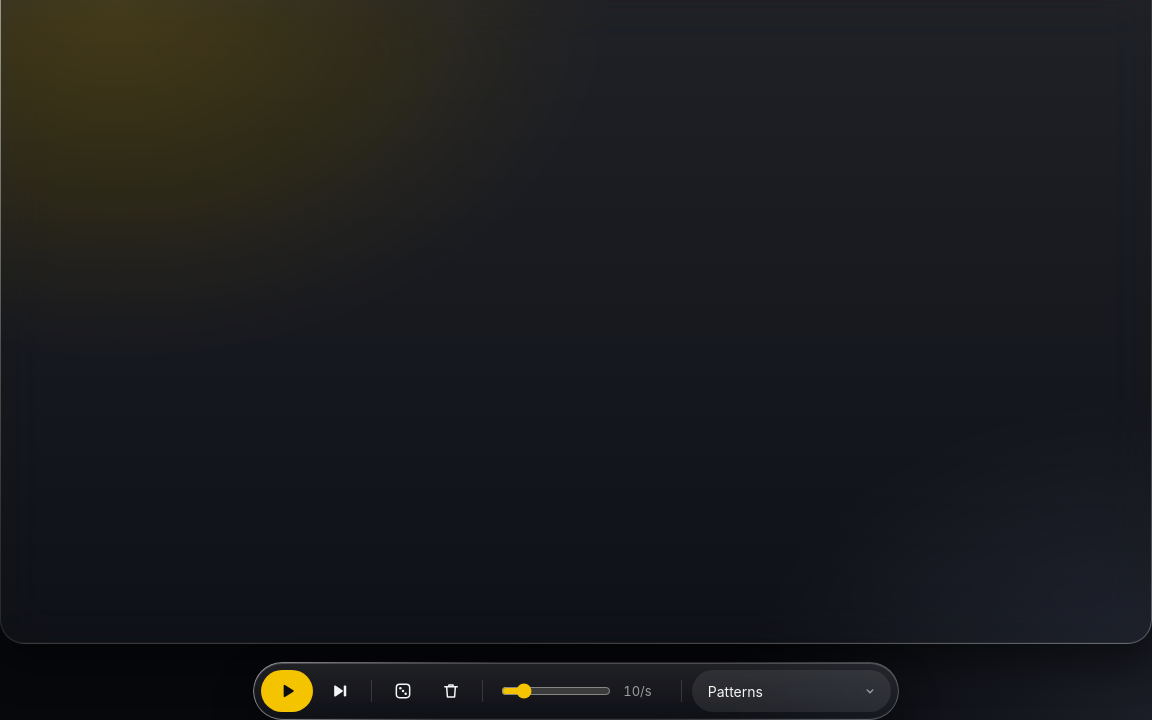
it: <GameOfLife /> › switches between play and pause
(page scrolled)
Click the button named "Play".
click(287, 691)  # box x1=261 y1=670 x2=313 y2=712
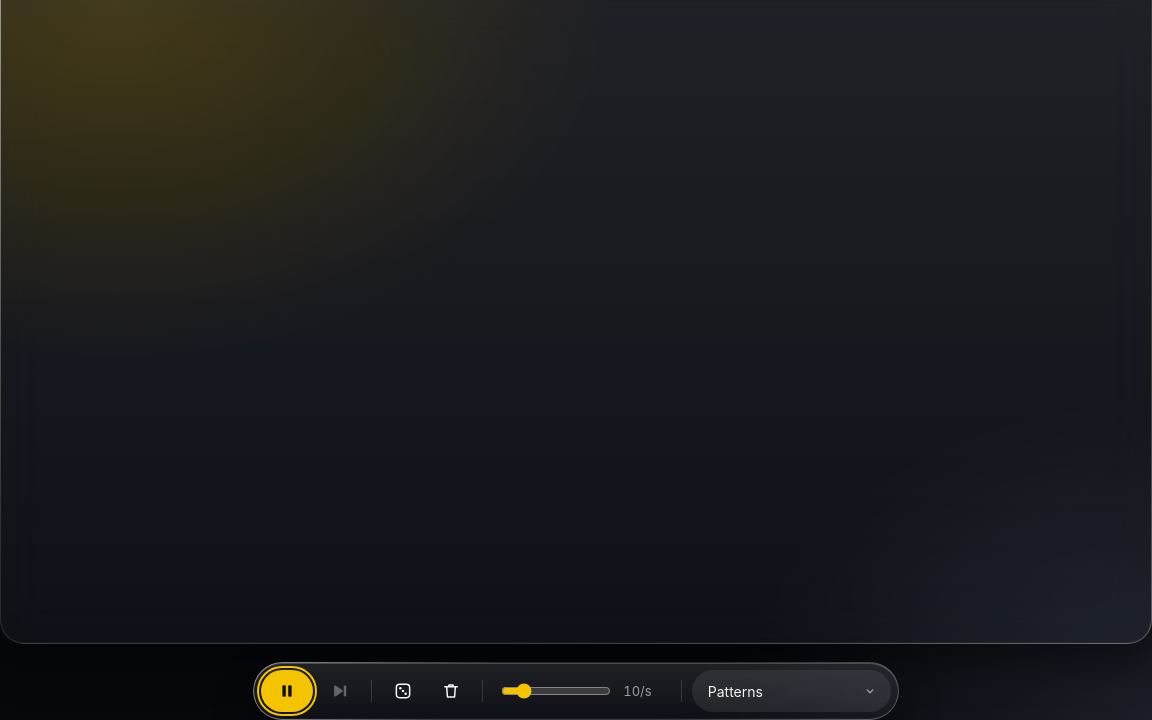
Check: the button named "Step" is disabled, box x1=319 y1=670 x2=361 y2=712
Click the button named "Pause".
click(287, 691)  # box x1=261 y1=670 x2=313 y2=712
(page scrolled)
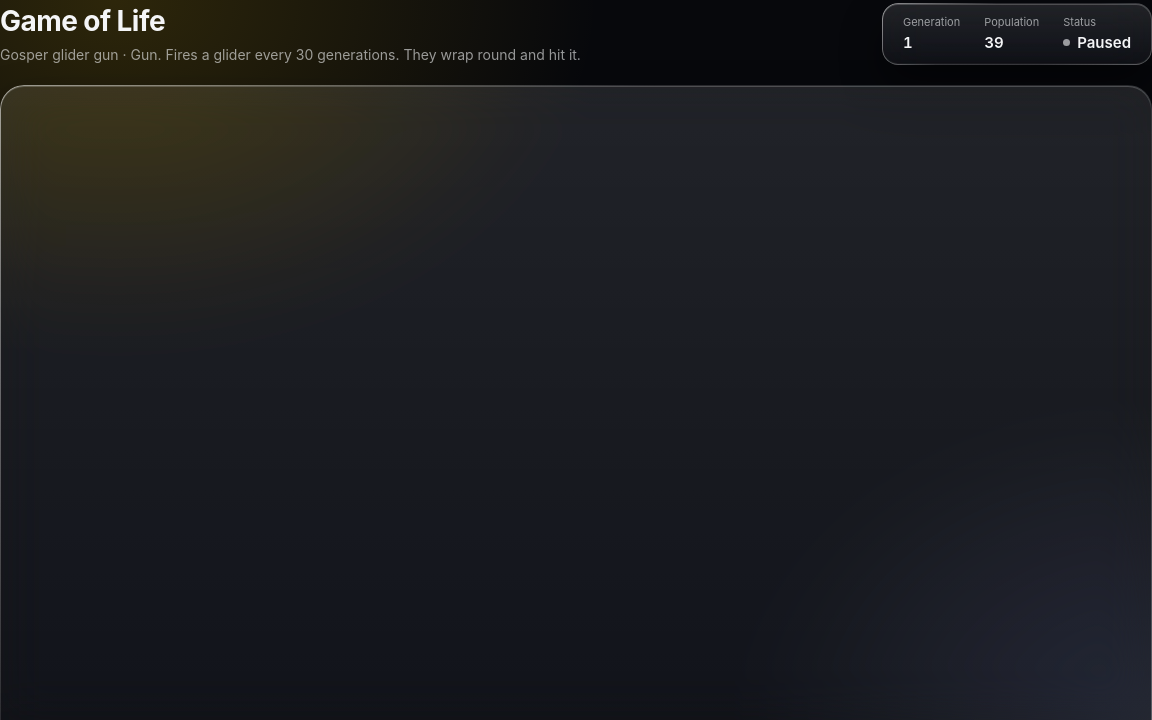
Check: the element with test id "status" reads "Paused", box x1=1077 y1=32 x2=1131 y2=52
